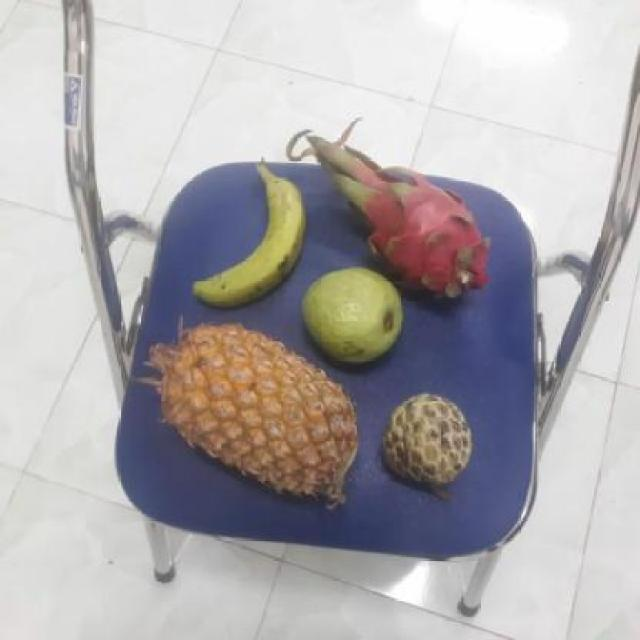banana: (188, 168, 308, 314)
dragon fruit: (343, 168, 482, 303)
guava: (295, 268, 403, 364)
pineapple: (148, 323, 360, 503)
sugar apple: (377, 394, 472, 491)
